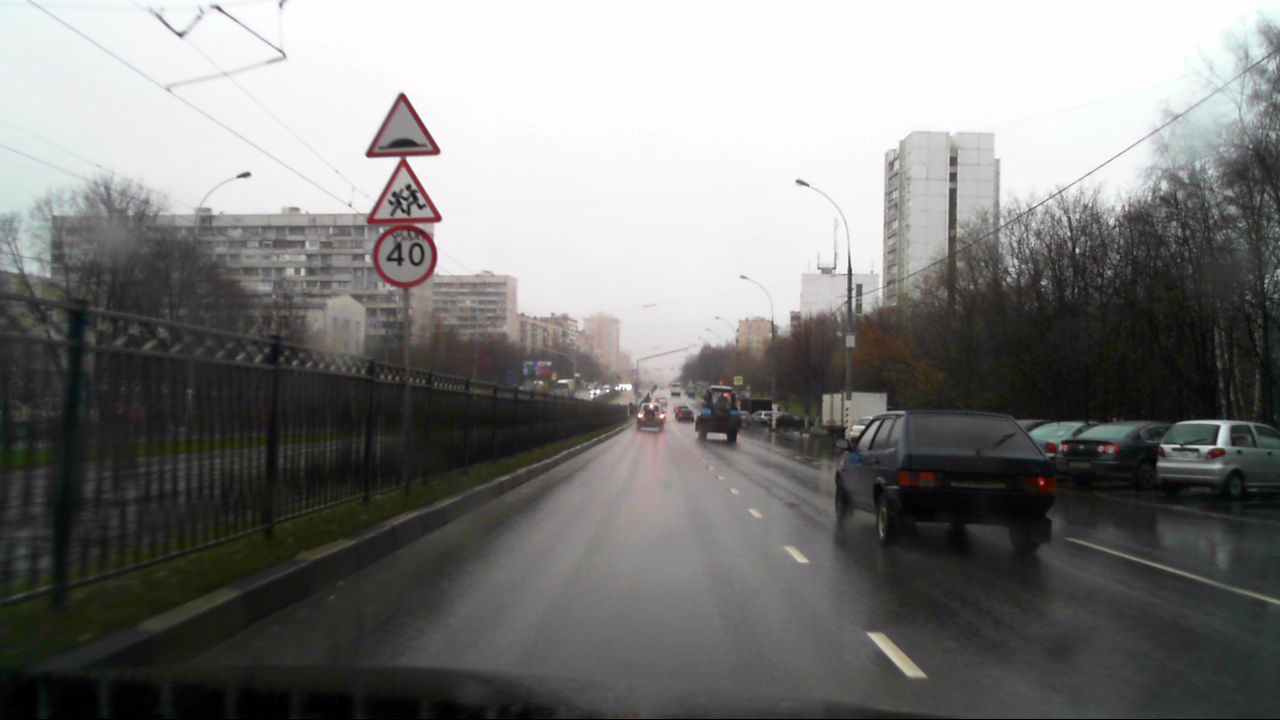speed_warning_40: (372, 227, 438, 289)
